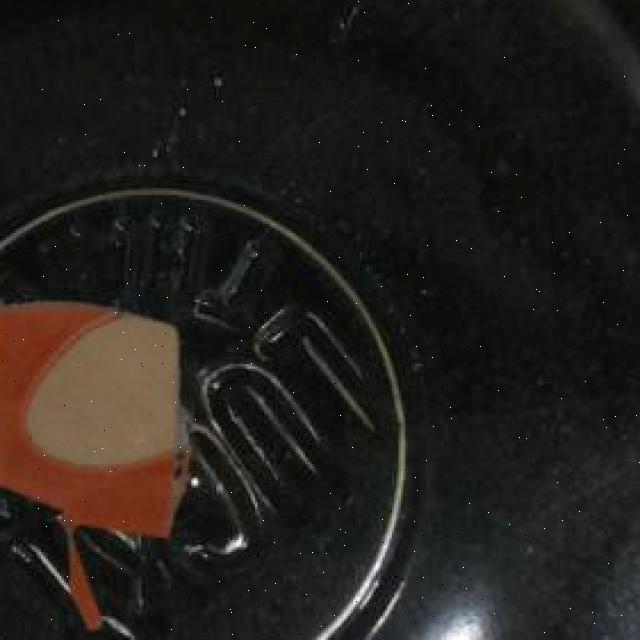Microplastic: (0, 288, 203, 540)
